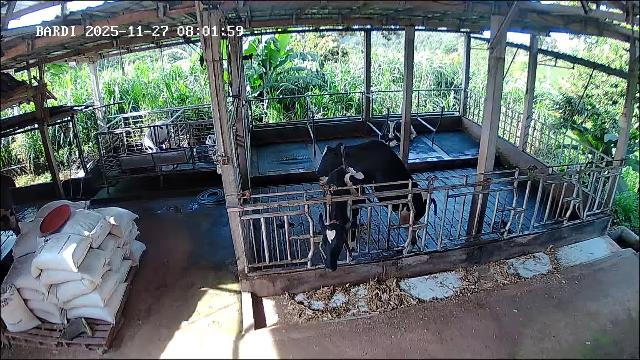mounting: (318, 141, 434, 248)
